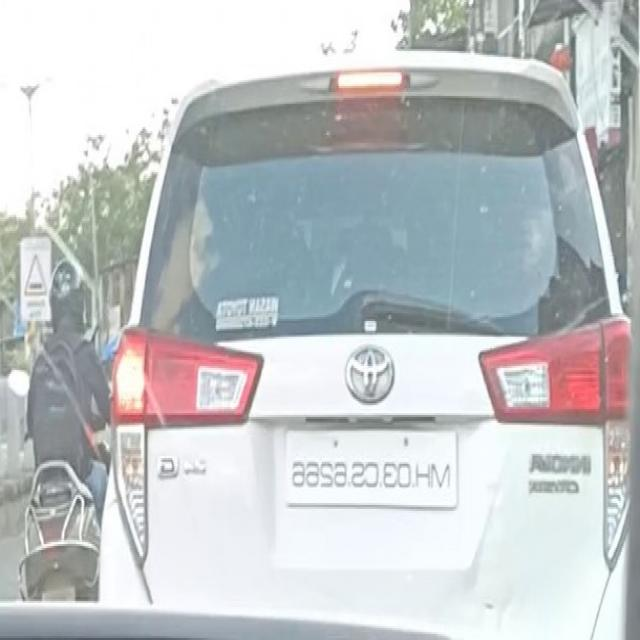license_plate: (279, 412, 464, 528)
